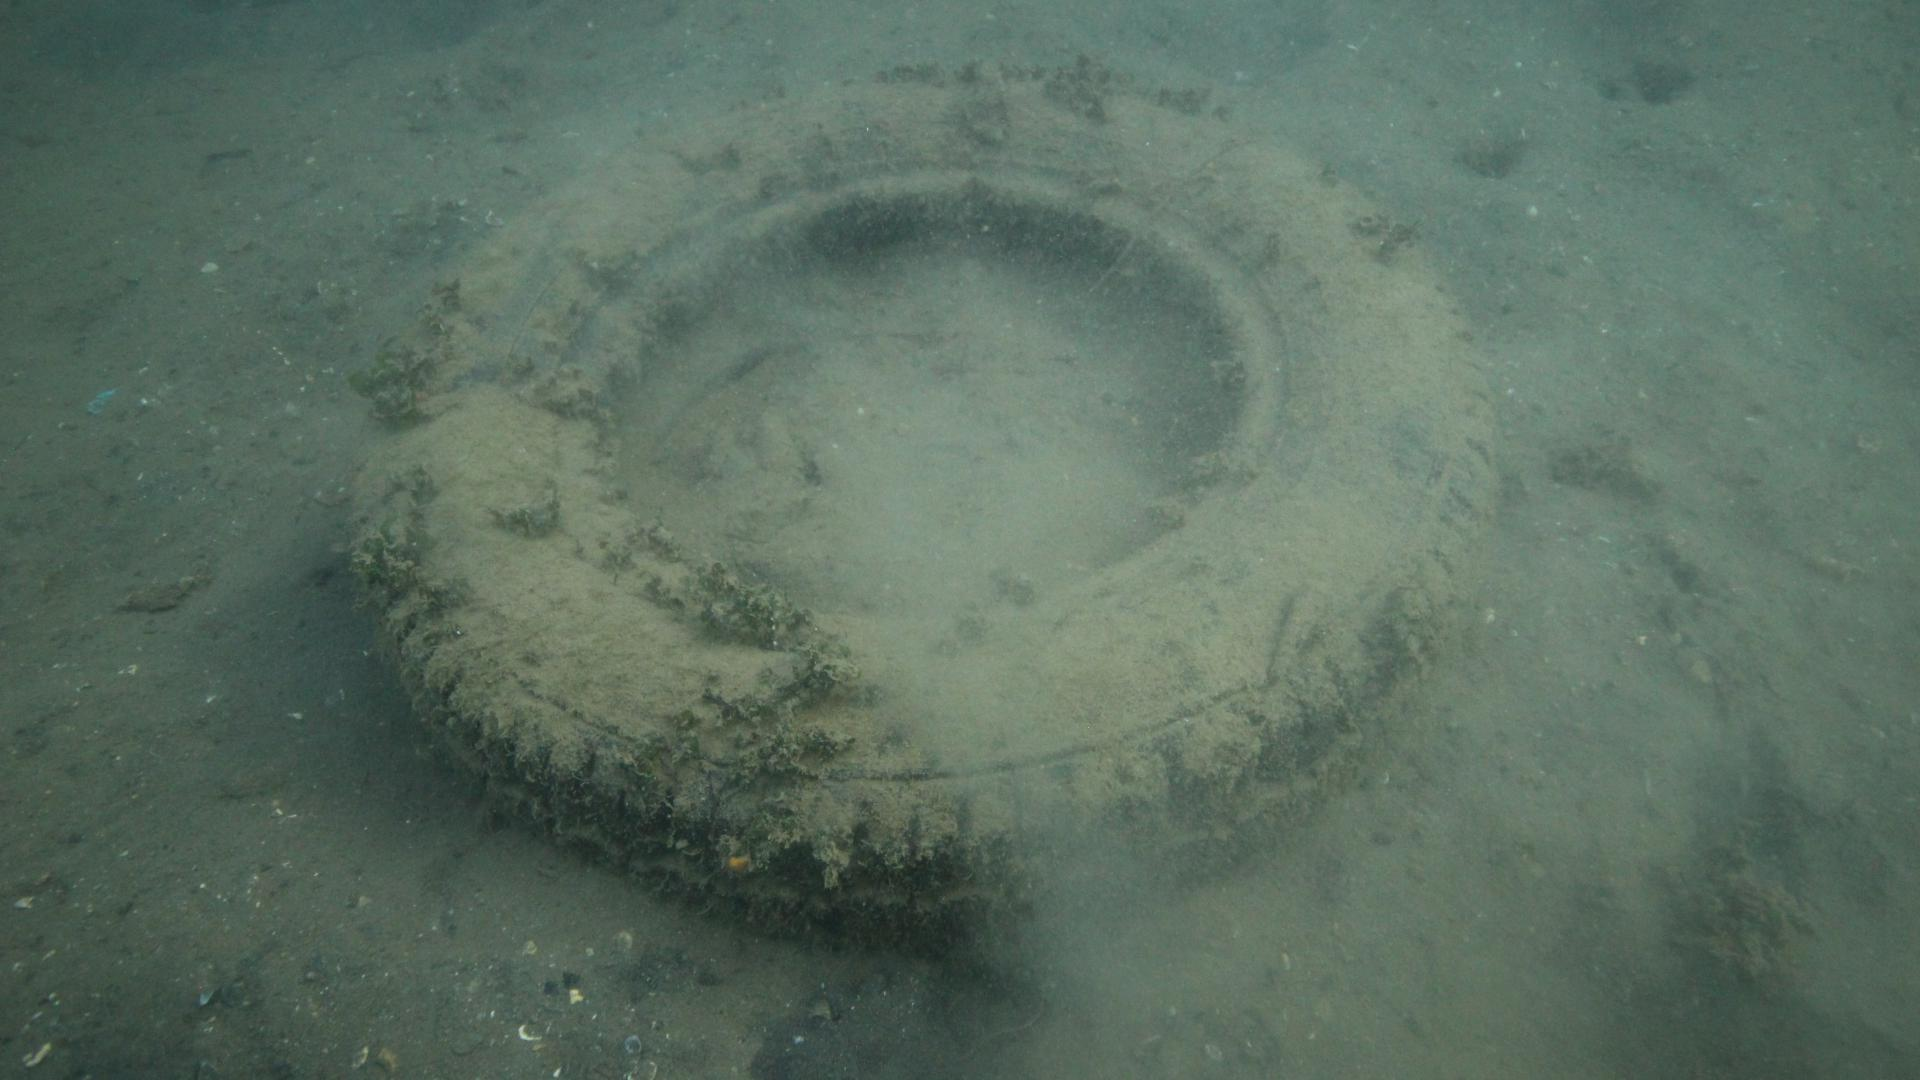tire: (342, 69, 1495, 959)
